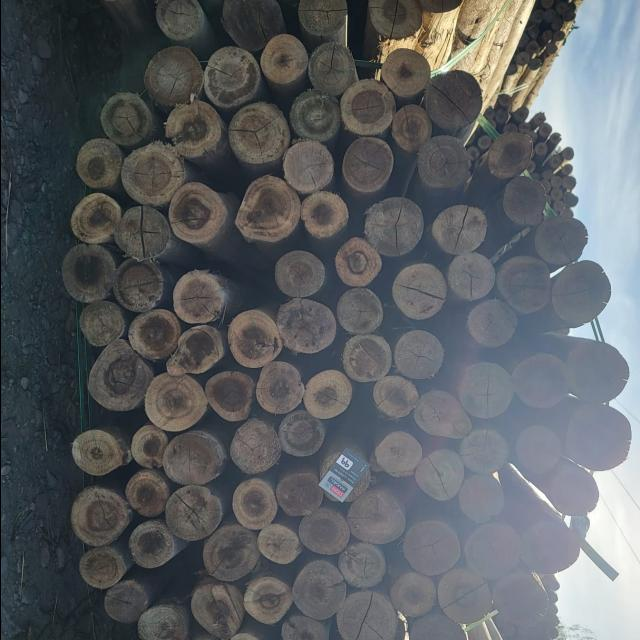package: (62, 43, 628, 640), (466, 96, 580, 232), (502, 0, 584, 95), (495, 577, 557, 640)
